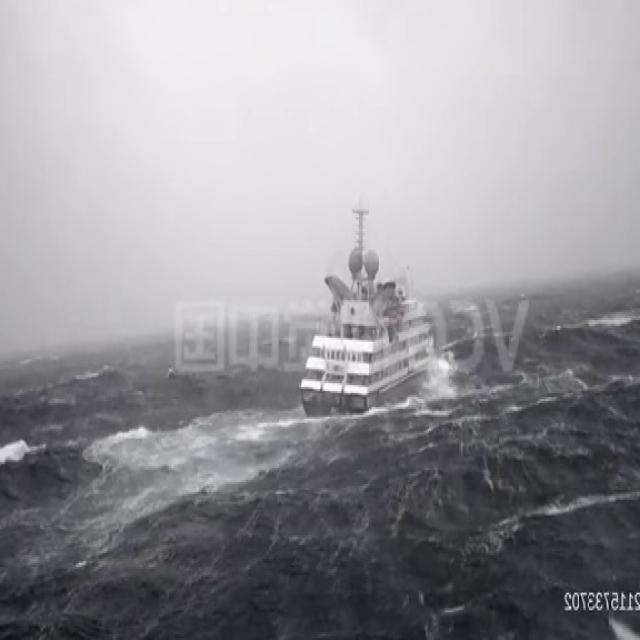passenger ship: (305, 196, 434, 408)
